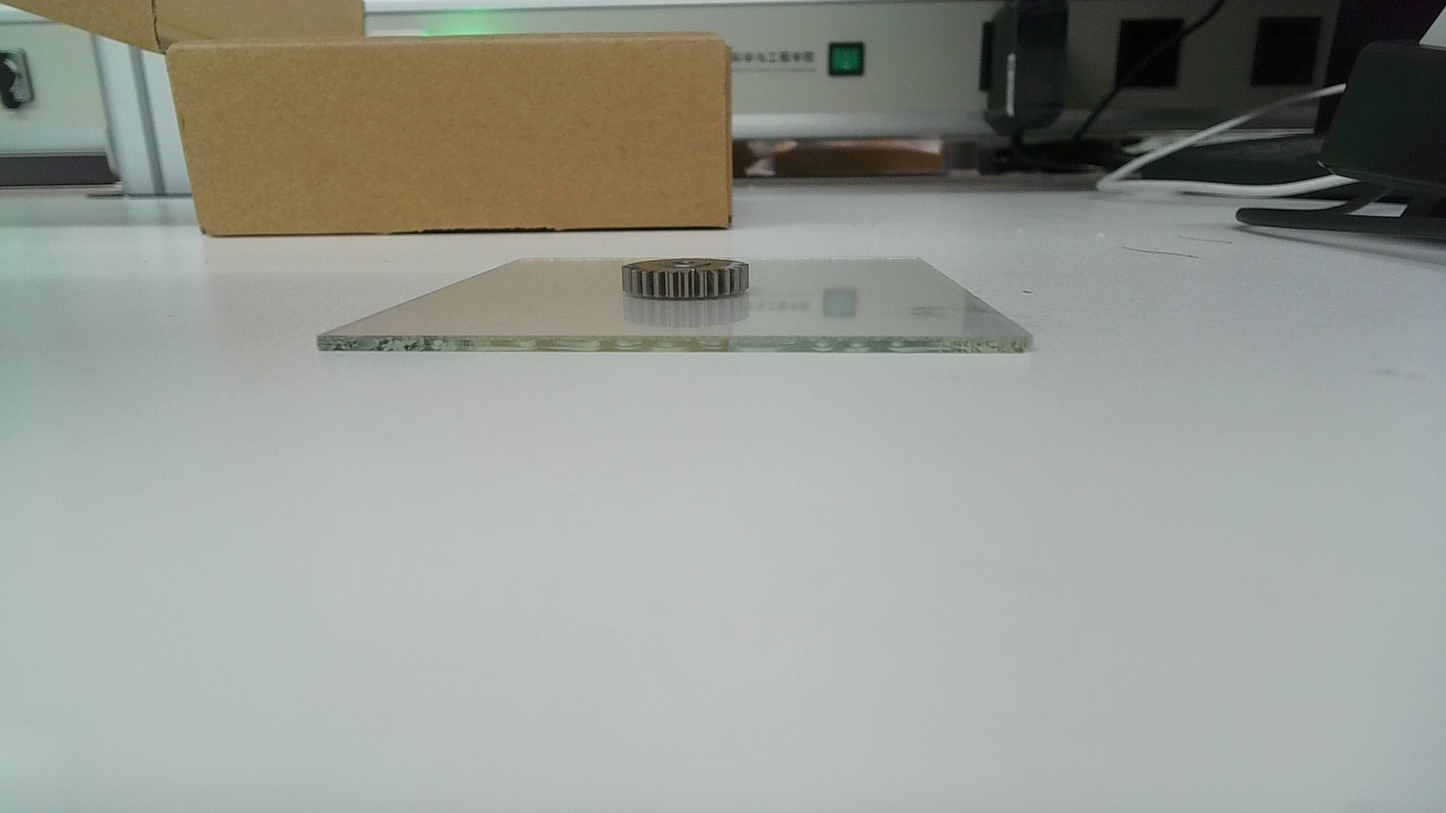gear: (617, 256, 754, 300)
